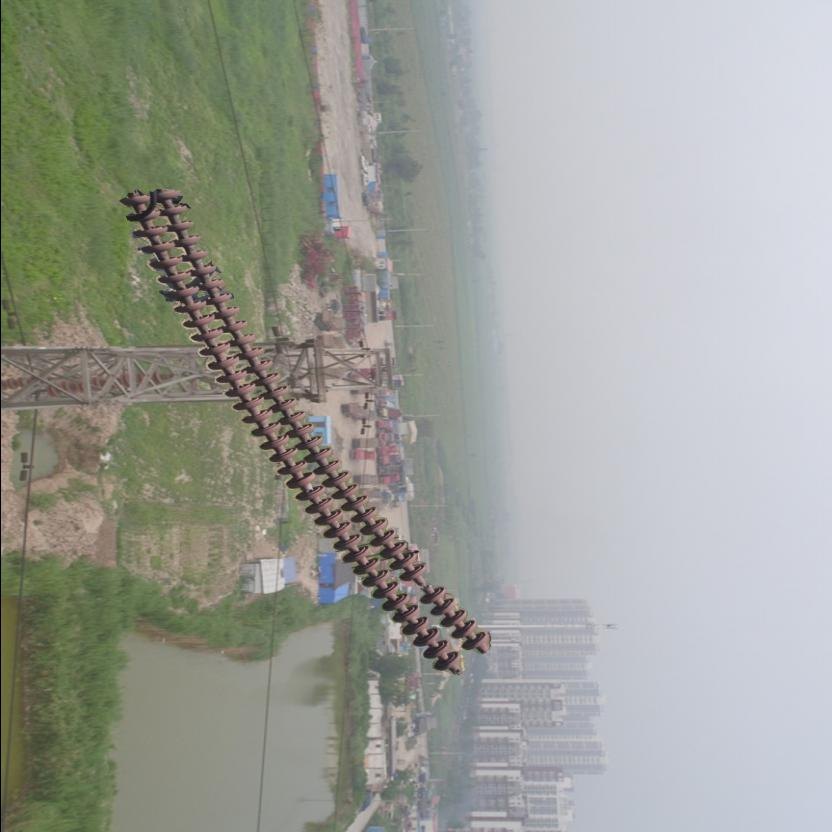defect: (398, 560, 447, 604)
